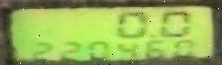-: (148, 32, 156, 37)
0: (159, 9, 191, 36), (115, 10, 146, 37), (170, 38, 192, 58), (87, 40, 107, 59)
2: (58, 41, 81, 60), (30, 41, 51, 61)
4: (114, 39, 138, 59)
6: (145, 39, 165, 58)
